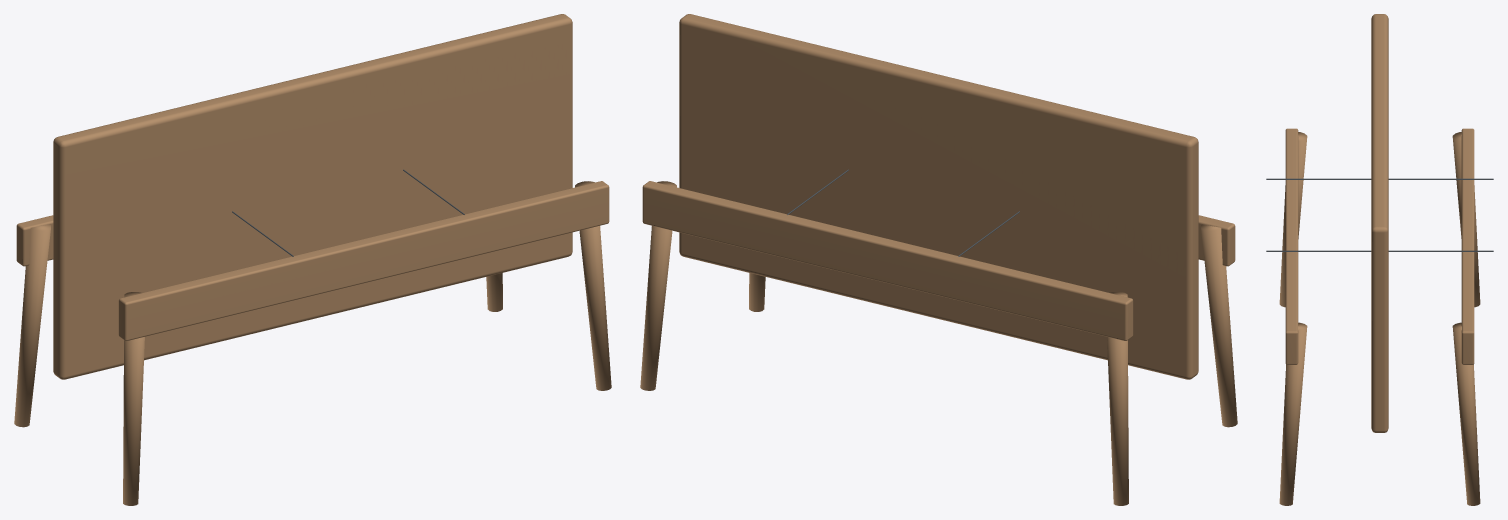
Rendered from atelier-extendable-dining-table.glb.
3 views of the same model, side by side, from view 1: azimuth 30°, elevation 25°; view 2: azimuth 150°, elevation 25°; view 3: azimuth 270°, elevation 25° (orthographic). The views are drawn at different scales.
Visible parts, largest first — view 1: legs.060; view 2: legs.060; view 3: legs.060, metal.017.
Boxes of the visible parts, x1,y1,x2,y2 form: legs.060: (14,14,611,505); legs.060: (640,14,1237,505); legs.060: (1279,14,1480,505); metal.017: (1266,178,1493,251).
Size of the model in its own units: 1.8 by 1.1 by 0.8.
